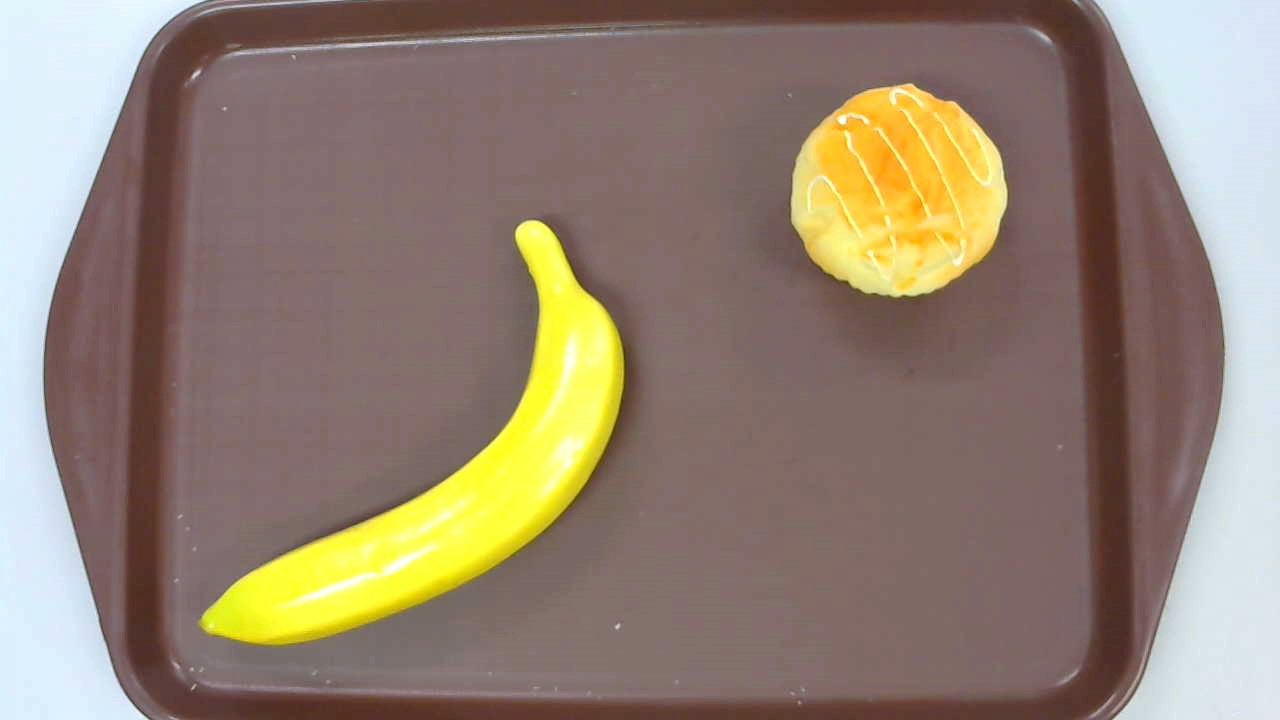banana: (197, 220, 624, 645)
cupcake: (791, 82, 1007, 300)
